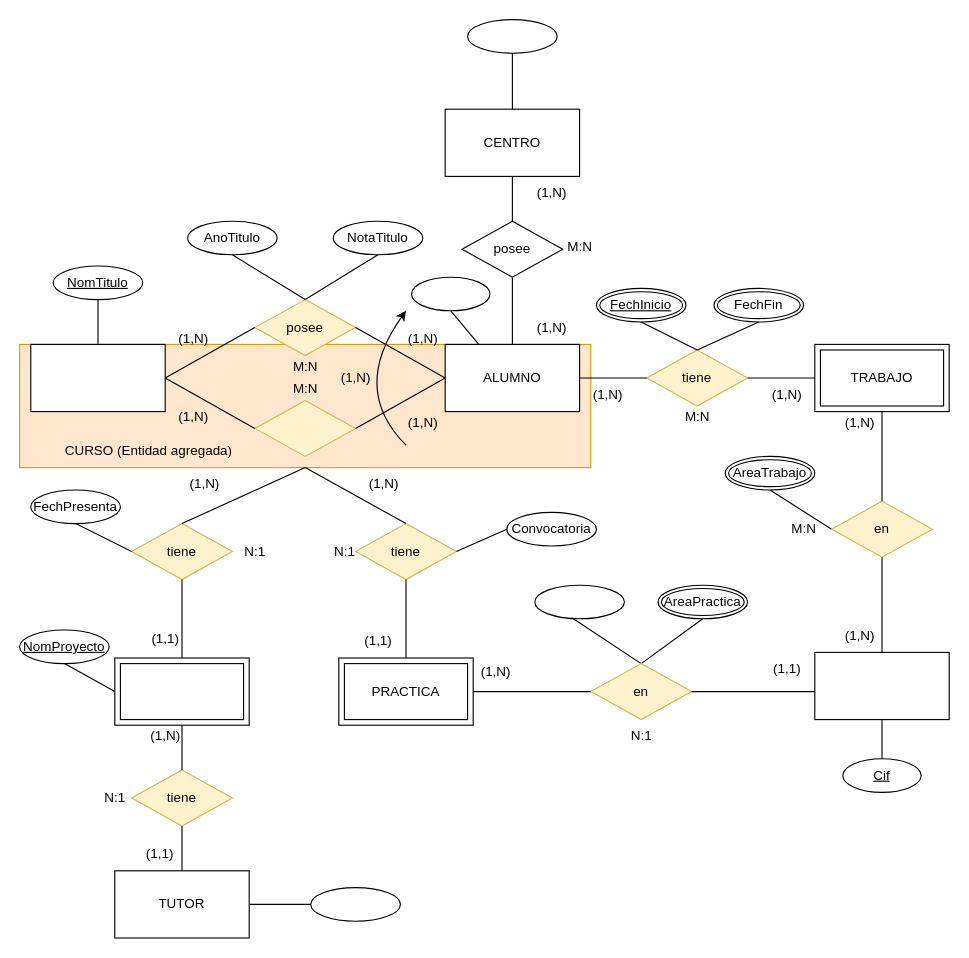
Some shapes in this 969 by 958 pixel diagram are drawn without their labels. Each missing label, with the box of its shape:
AnoPractica: (534, 584, 624, 619)
CodCentro: (466, 18, 557, 53)
cursa: (254, 399, 356, 456)
DniAlumno: (410, 276, 490, 311)
DniTutor: (310, 886, 400, 921)
EMPRESA: (814, 651, 949, 720)
PROYECTO: (114, 657, 249, 725)
TITULACION: (30, 343, 165, 412)
